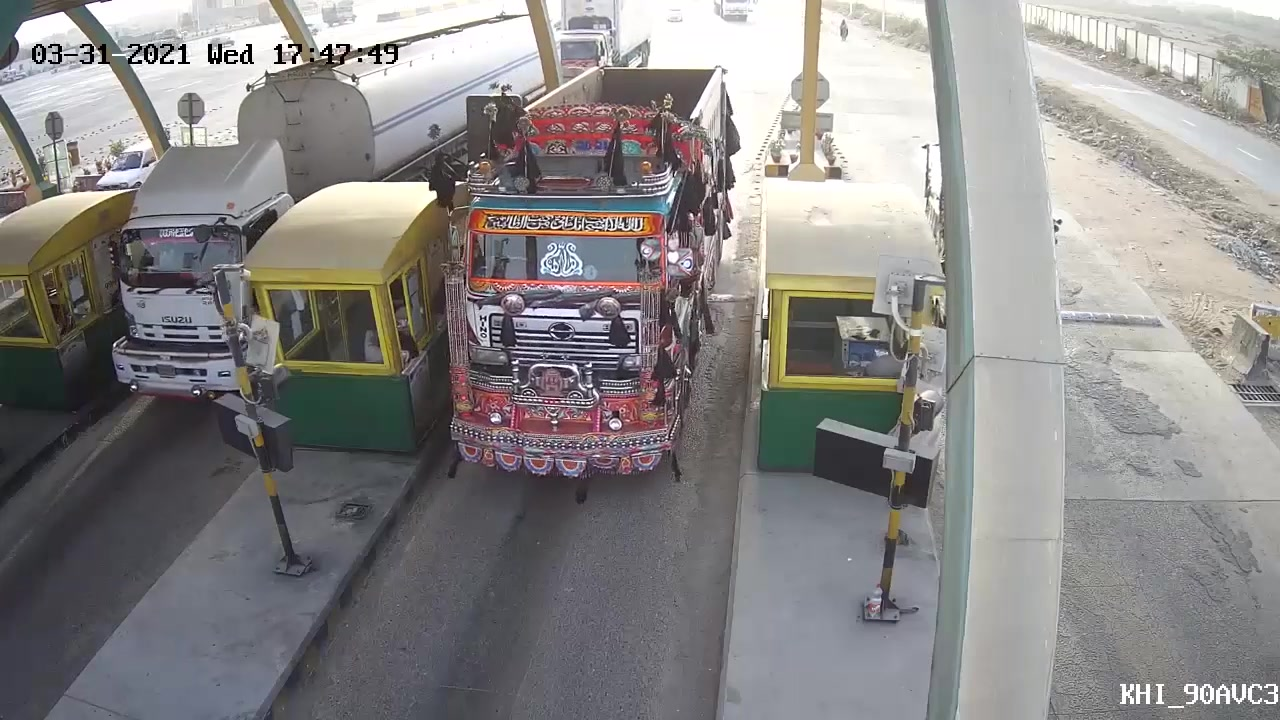F5: (440, 57, 743, 490)
